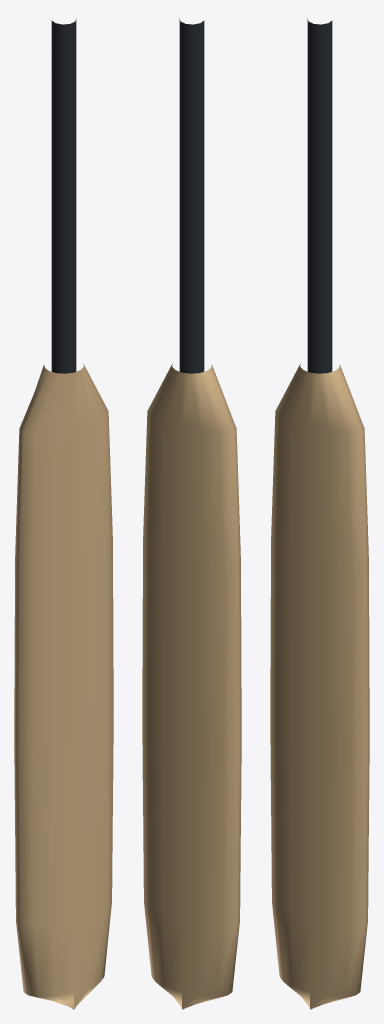
File: bat_street_willow_01_v1.glb
3 views of the same model, side by side, from view 1: azimuth 30°, elevation 25°; view 2: azimuth 150°, elevation 25°; view 3: azimuth 330°, elevation 25° (orthographic).
Parts seen in each view (by area): view 1: Bat_Blade, Bat_Handle; view 2: Bat_Blade, Bat_Handle; view 3: Bat_Blade, Bat_Handle.
Part boxes in pixels (<box>): Bat_Blade: <box>14,363,113,1009</box>; Bat_Handle: <box>51,19,76,373</box>; Bat_Blade: <box>142,363,241,1009</box>; Bat_Handle: <box>179,19,204,373</box>; Bat_Blade: <box>270,363,369,1009</box>; Bat_Handle: <box>307,19,332,373</box>.
Bounding box in the file's own units: 0.1092 × 1.08 × 0.04.
